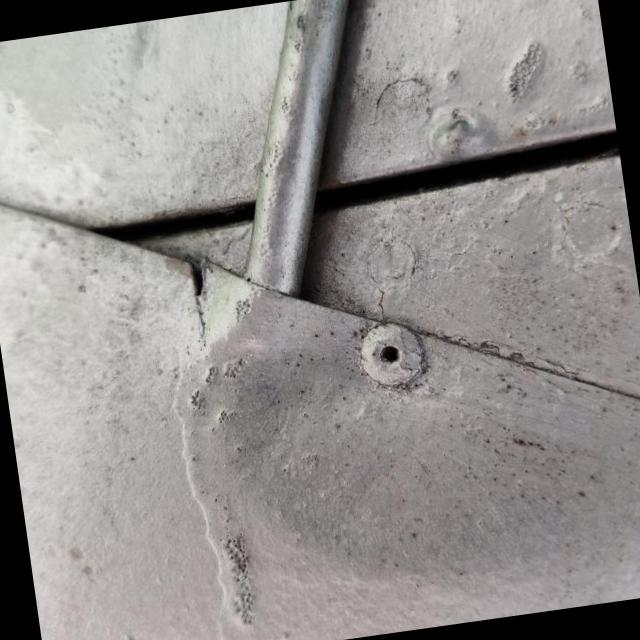Crack: (179, 256, 234, 346)
